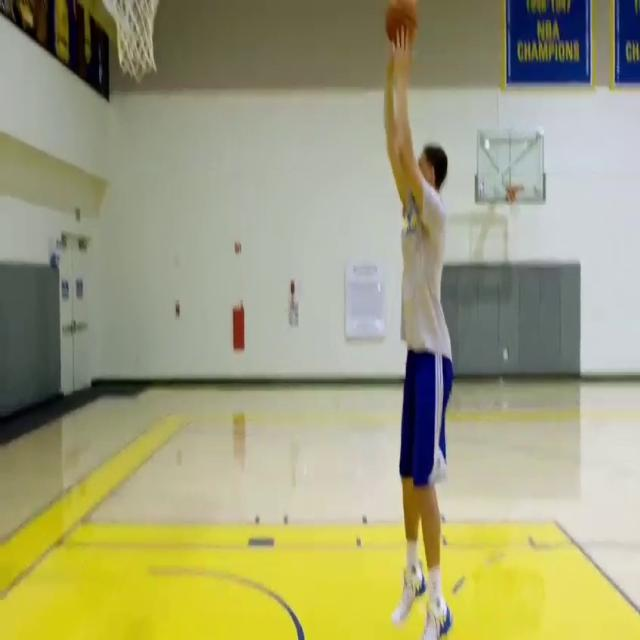ball: (385, 0, 419, 43)
